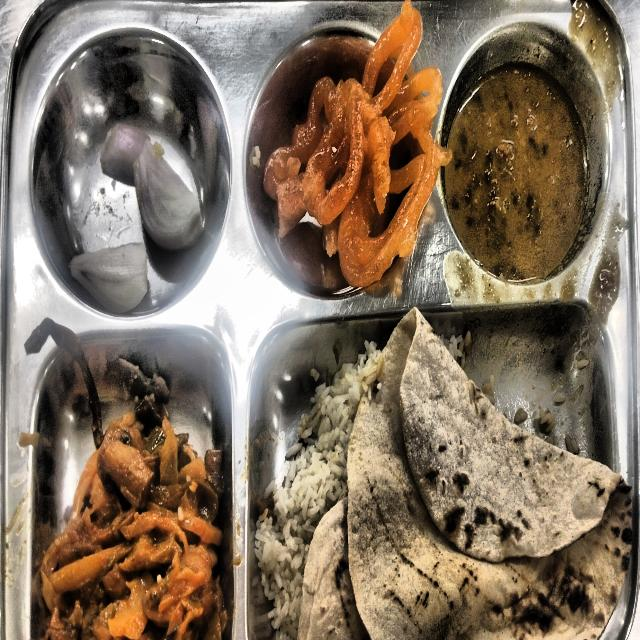Chilli-paneer: (443, 65, 587, 280)
Chutney: (263, 2, 451, 288)
Daal-pulse: (65, 413, 217, 638)
Raita: (255, 341, 381, 640)
Red--chutney: (298, 309, 632, 640)
Salad-Chukundar: (101, 123, 203, 251), (70, 242, 148, 311)
